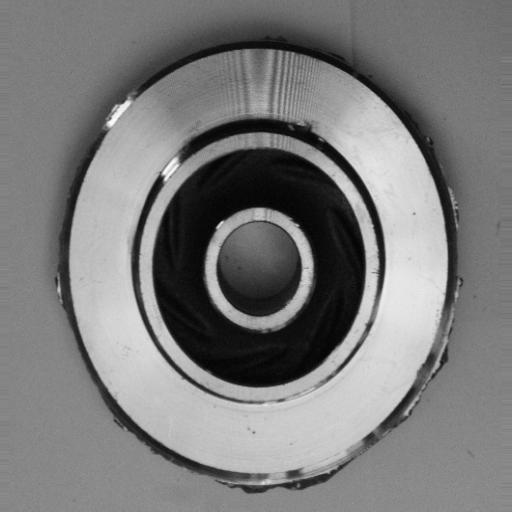casting_with_burr: (49, 35, 462, 497)
crack: (275, 110, 330, 149)
scratch: (247, 386, 327, 412), (152, 147, 185, 196)
